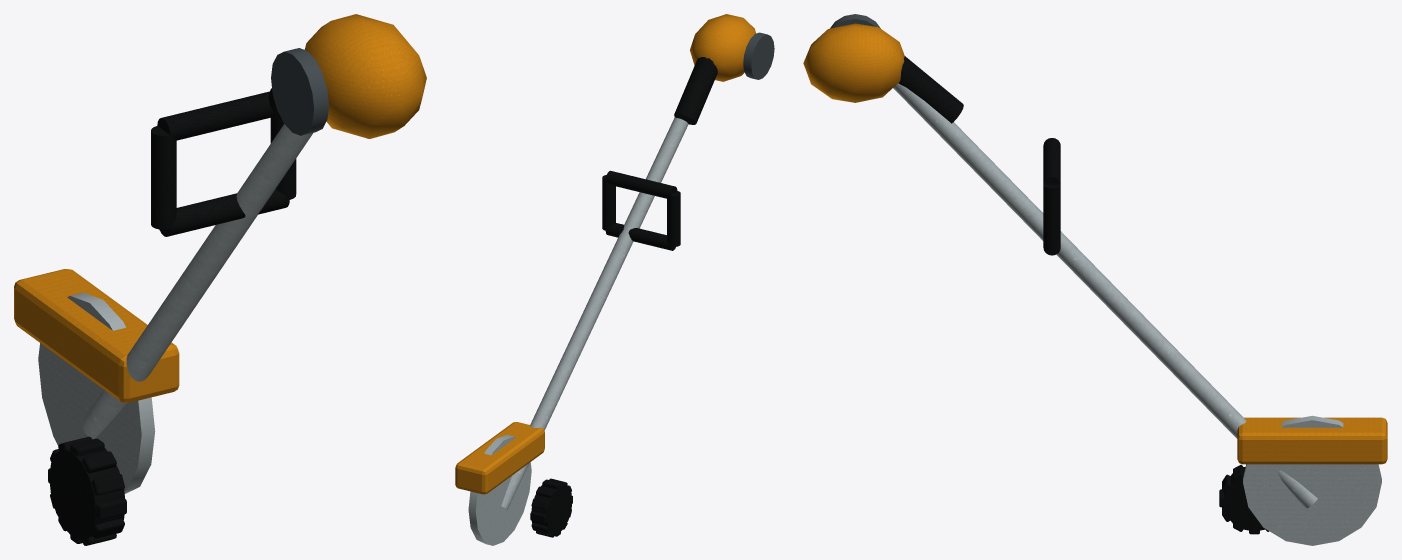
The model's file is GasStickEdger.gltf.
The picture shows the model from 3 angles, left to right: view 1: azimuth 30°, elevation 25°; view 2: azimuth 150°, elevation 25°; view 3: azimuth 270°, elevation 25°; orthographic projection. The views are drawn at different scales.
Visible parts, largest first — view 1: GasStickEdger__Body, GasStickEdger__Wheel_Blade, GasStickEdger__Wheel_Guide; view 2: GasStickEdger__Body, GasStickEdger__Wheel_Blade, GasStickEdger__Wheel_Guide; view 3: GasStickEdger__Body, GasStickEdger__Wheel_Blade, GasStickEdger__Wheel_Guide.
Boxes of the visible parts, box(x1,y1,x2,y2) form: GasStickEdger__Body: box(14, 14, 426, 438); GasStickEdger__Wheel_Blade: box(38, 292, 155, 493); GasStickEdger__Wheel_Guide: box(48, 436, 126, 545); GasStickEdger__Body: box(455, 14, 774, 510); GasStickEdger__Wheel_Blade: box(468, 434, 531, 545); GasStickEdger__Wheel_Guide: box(530, 478, 572, 537); GasStickEdger__Body: box(803, 14, 1387, 508); GasStickEdger__Wheel_Blade: box(1243, 415, 1381, 545); GasStickEdger__Wheel_Guide: box(1219, 464, 1269, 534).
Size of the model in its own units: 0.3276 by 1.33 by 1.41.
Materials: 2 (1 with a texture image).
